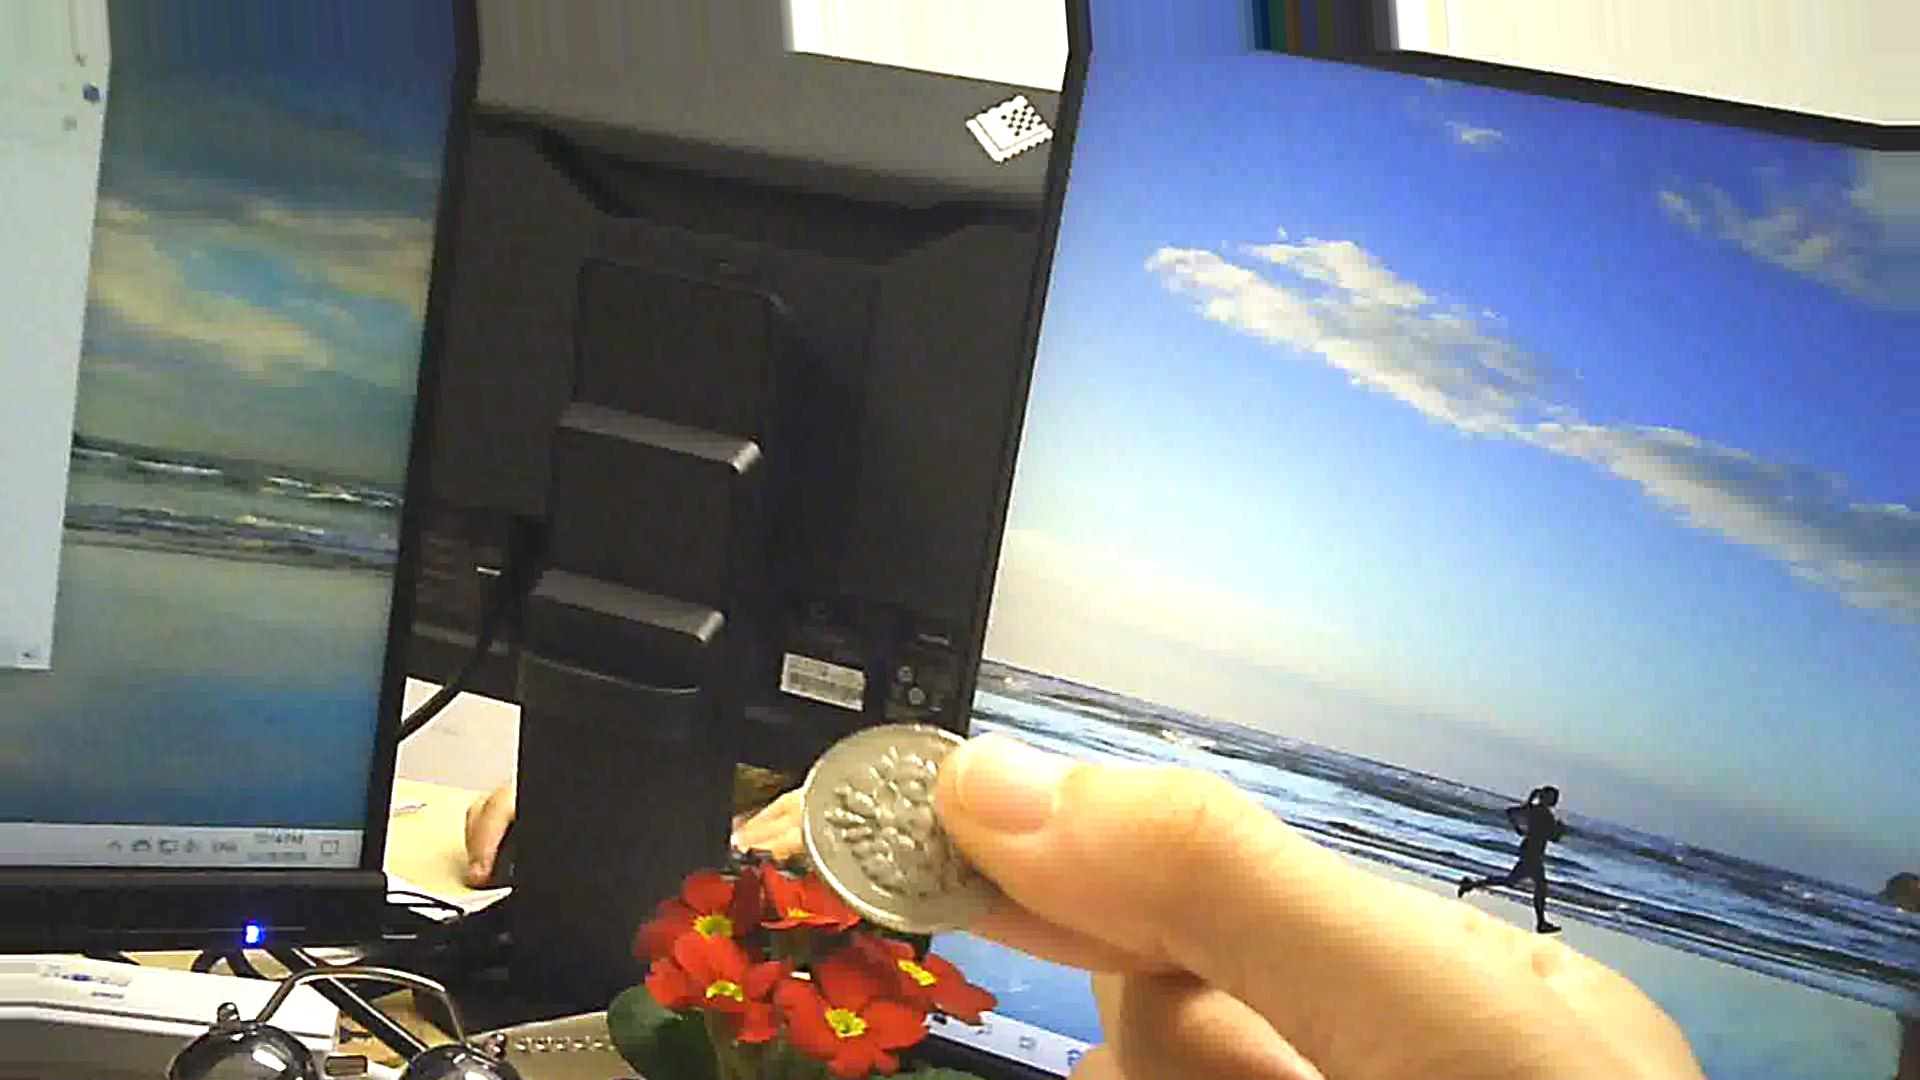100 Yen: (796, 705, 1023, 955)
